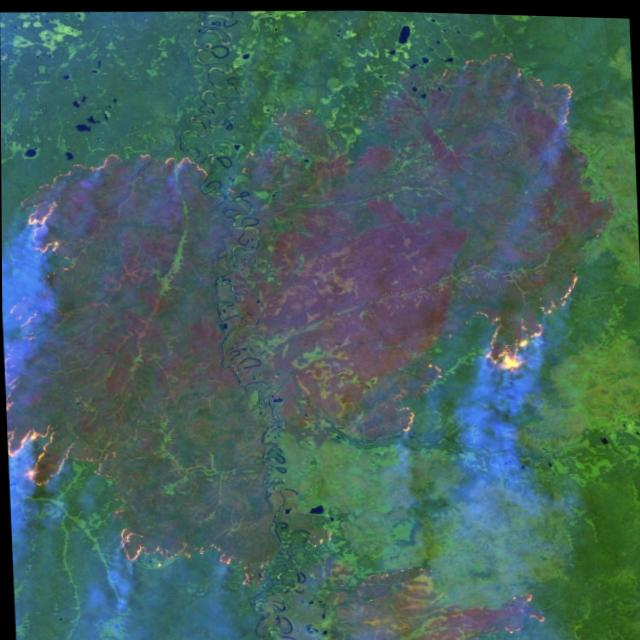fire: (1, 138, 269, 594), (472, 264, 588, 373), (497, 579, 552, 637)
